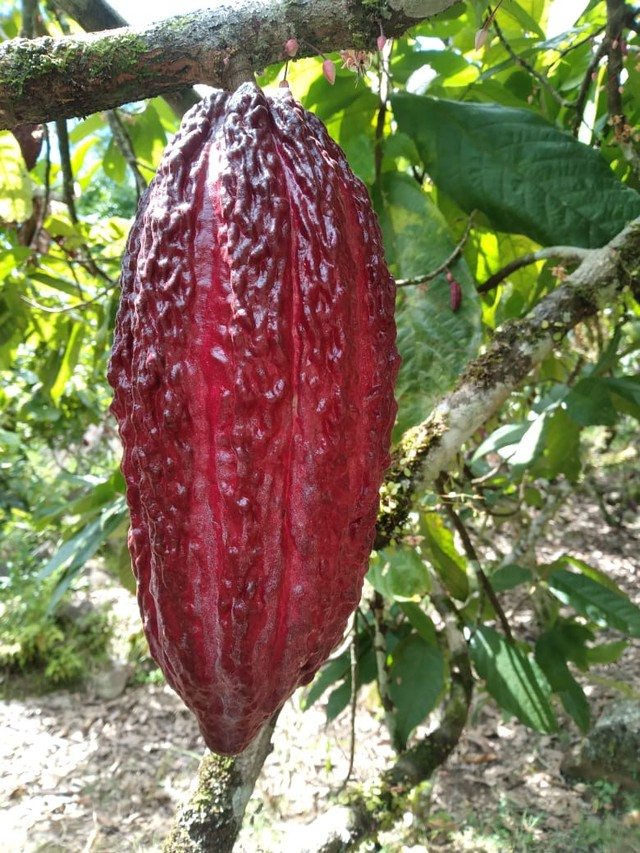Health: (79, 66, 421, 765)
